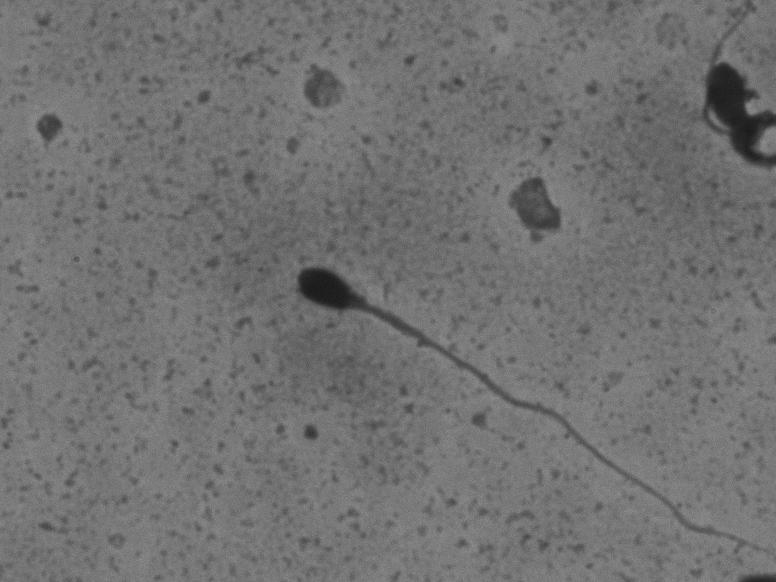Normal: (242, 234, 758, 565)
